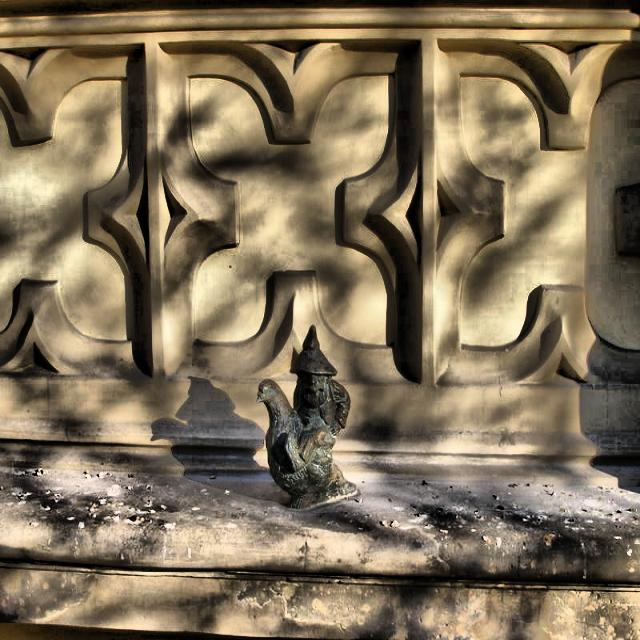Golebnik: (256, 325, 362, 511)
